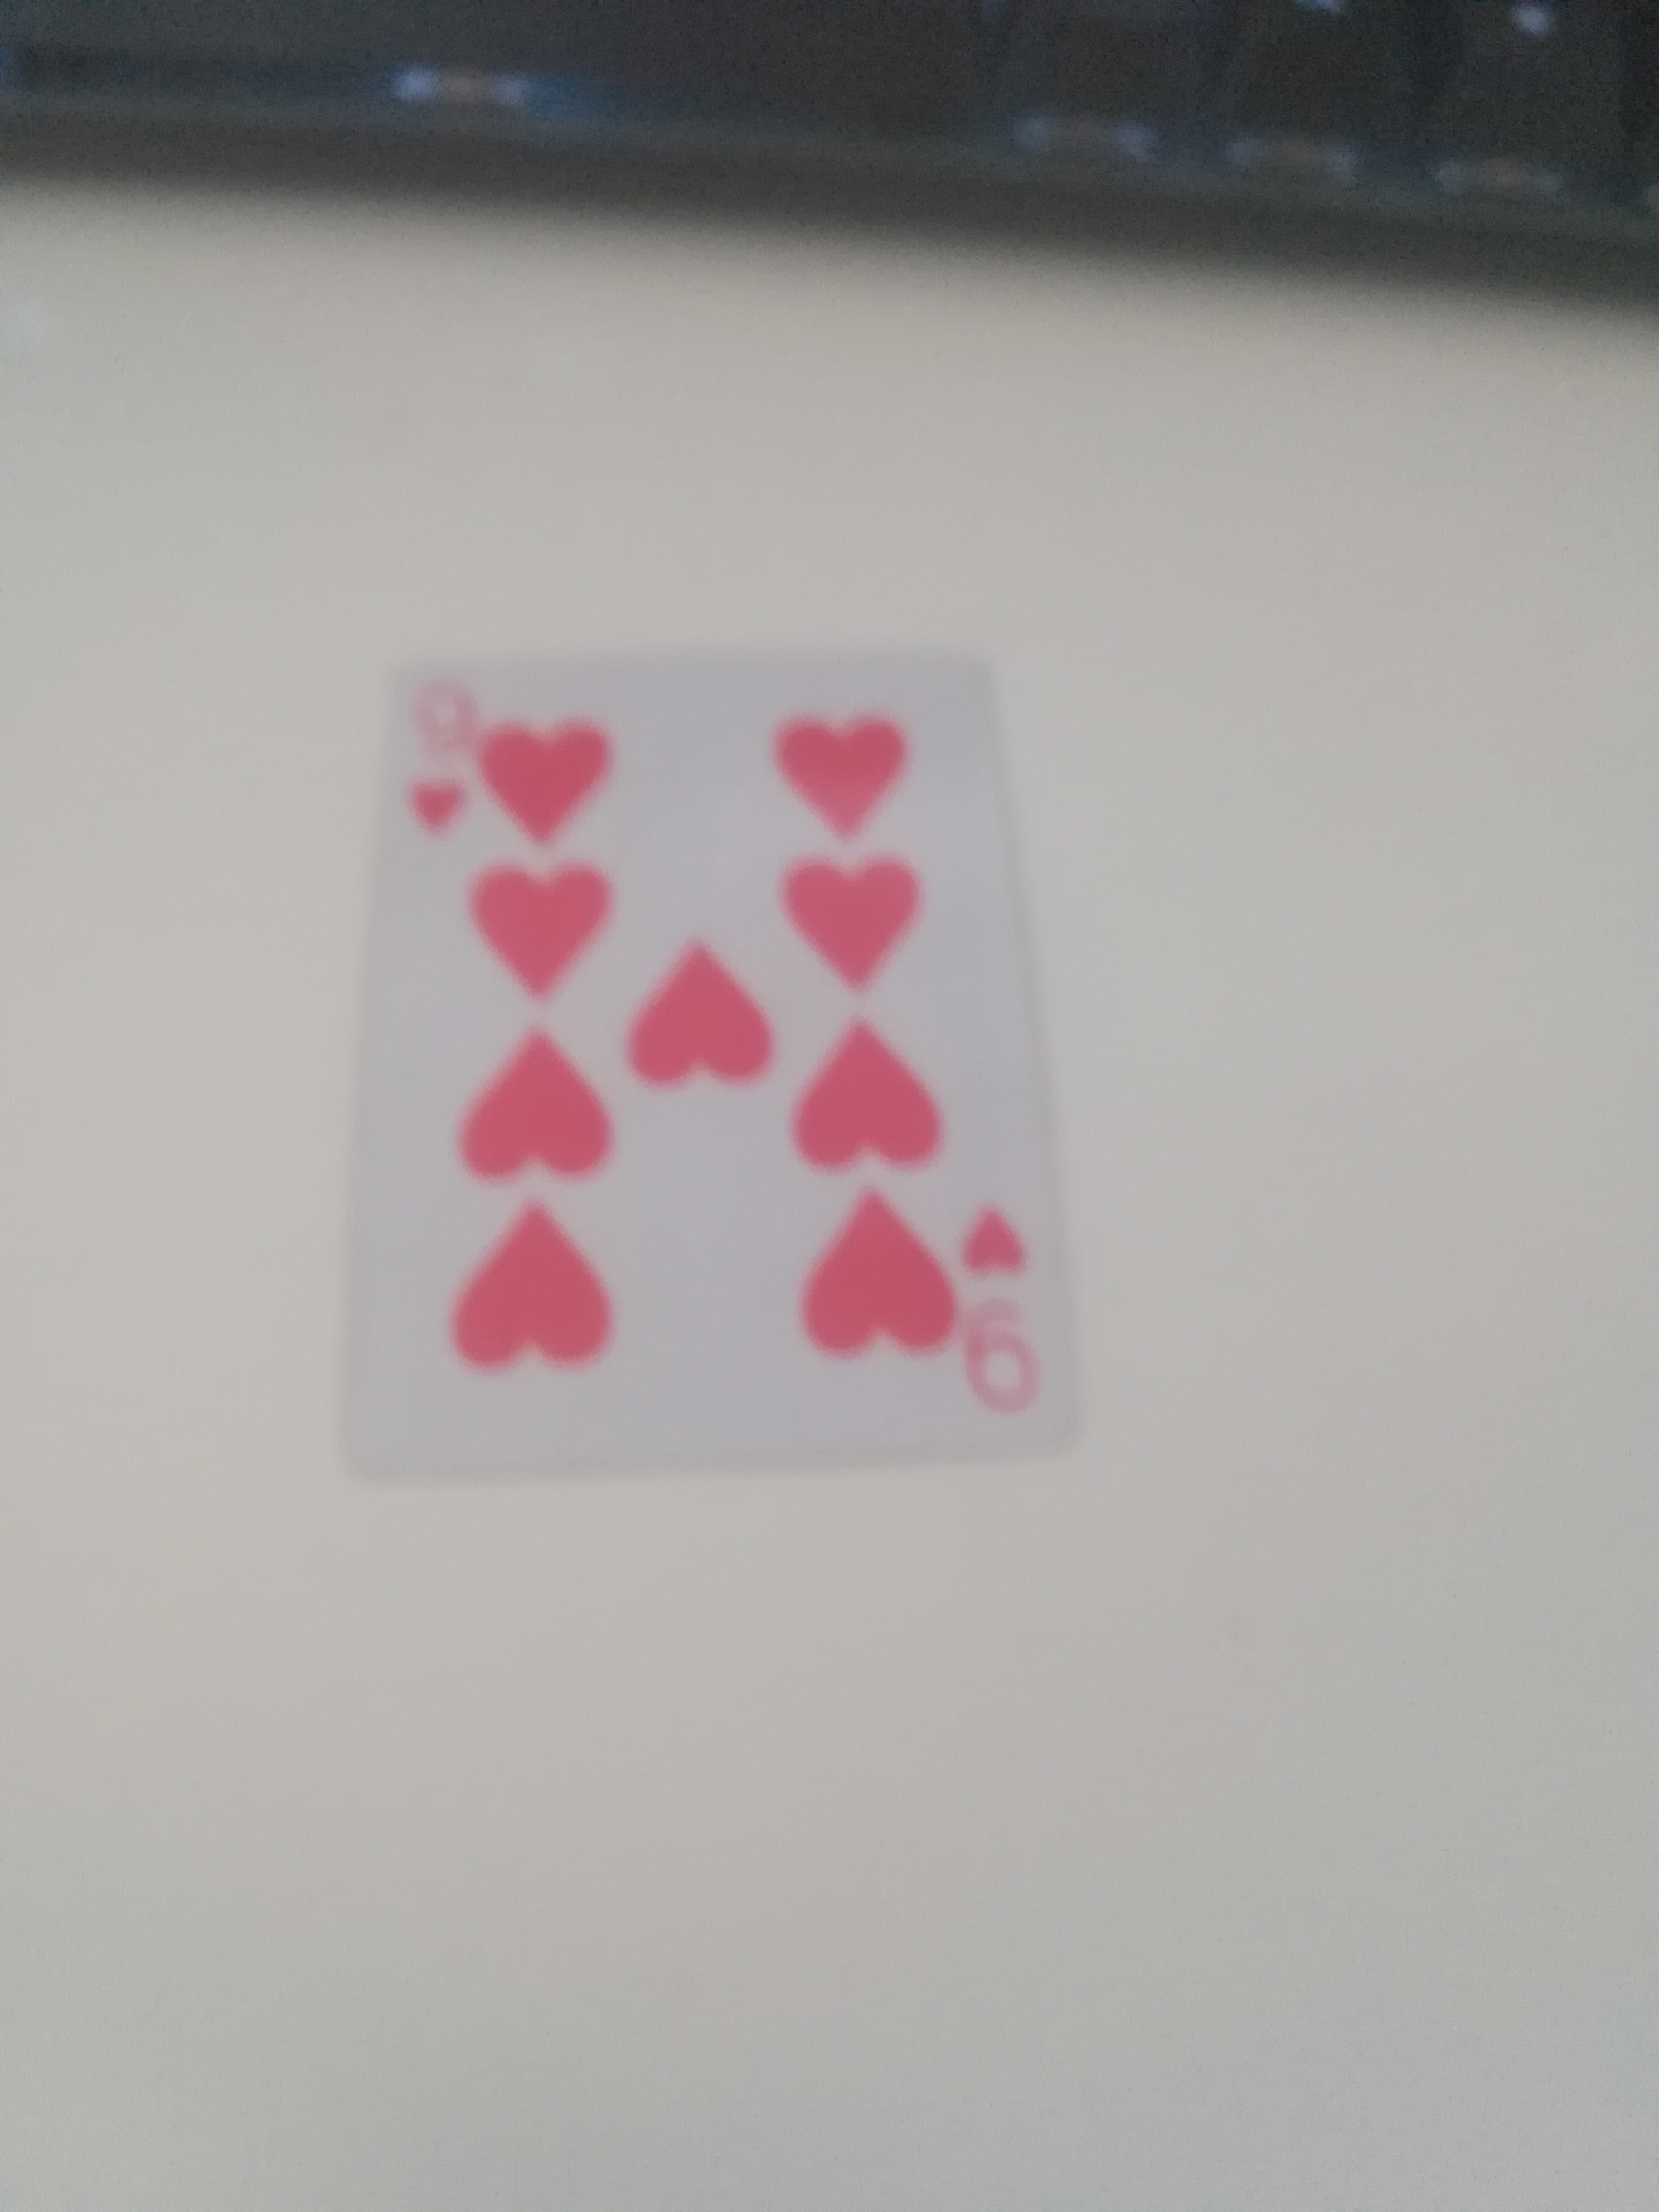9H: (322, 601, 1072, 1515)
